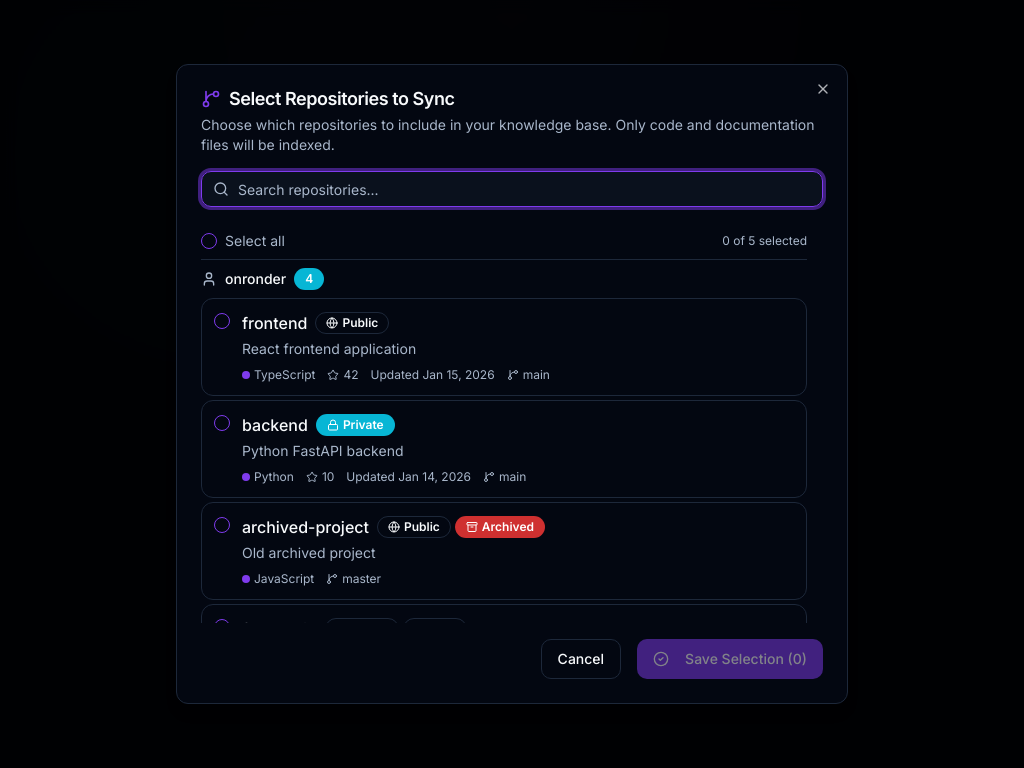
it: GitHubRepoSelector › allows selecting individual repos
Expected: the text "frontend" is shown, left=242, top=311, right=308, bottom=335
Click the button "frontend" at (275, 323), box left=201, top=298, right=807, bottom=396
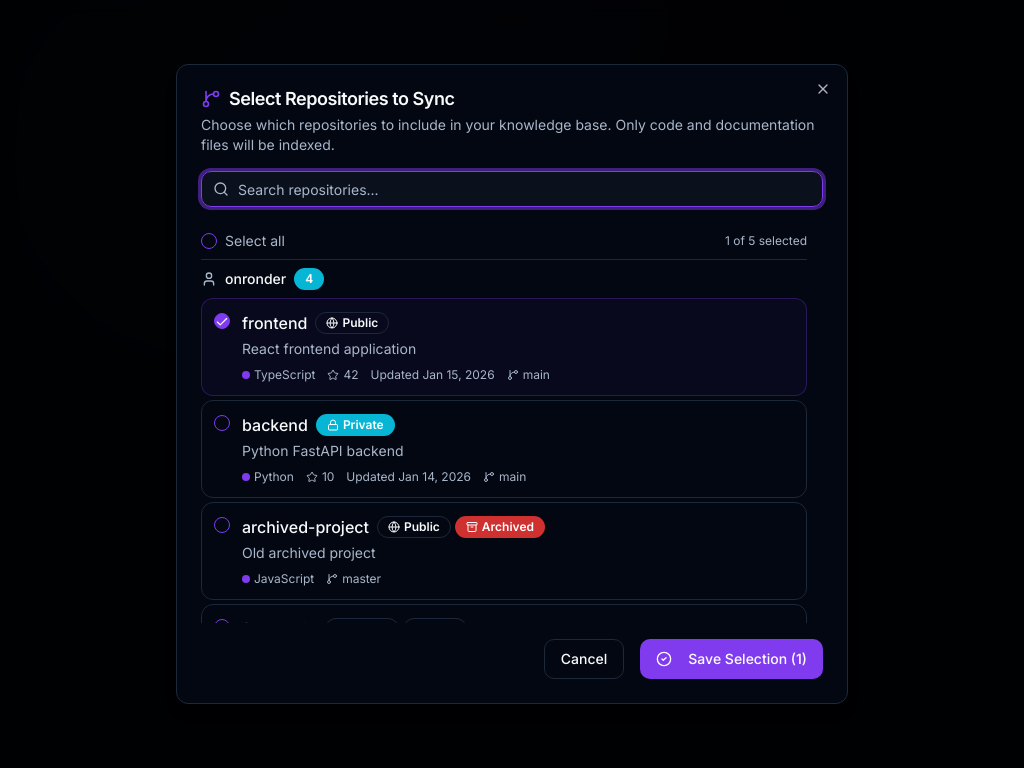
Expected: the text "1 of 5 selected" is shown, left=725, top=233, right=807, bottom=249
